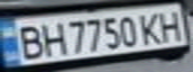0: (118, 12, 142, 47)
5: (100, 14, 124, 50)
7: (81, 16, 106, 52), (63, 17, 87, 54)
B: (9, 21, 48, 61)
H: (154, 7, 187, 42), (36, 20, 66, 57)
K: (136, 10, 166, 45)
